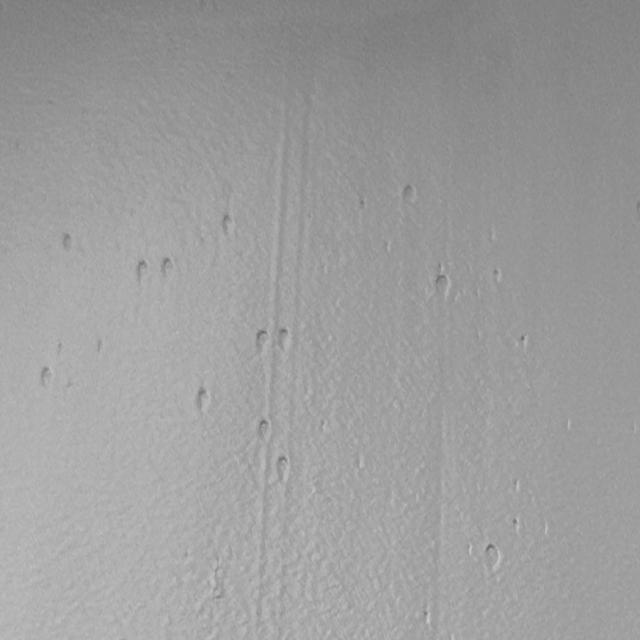pin holes: (482, 543, 504, 574), (275, 326, 296, 354), (192, 387, 212, 416), (401, 180, 421, 208), (35, 365, 55, 392), (217, 213, 236, 241), (432, 272, 452, 298), (58, 230, 78, 256), (158, 255, 178, 281), (254, 419, 272, 445), (132, 258, 150, 284), (250, 328, 268, 353), (275, 458, 293, 482), (419, 606, 432, 628), (516, 333, 531, 352), (510, 516, 524, 534), (94, 337, 106, 357), (493, 267, 506, 285), (358, 196, 370, 212), (381, 240, 393, 256), (512, 477, 523, 494), (436, 259, 444, 277)
